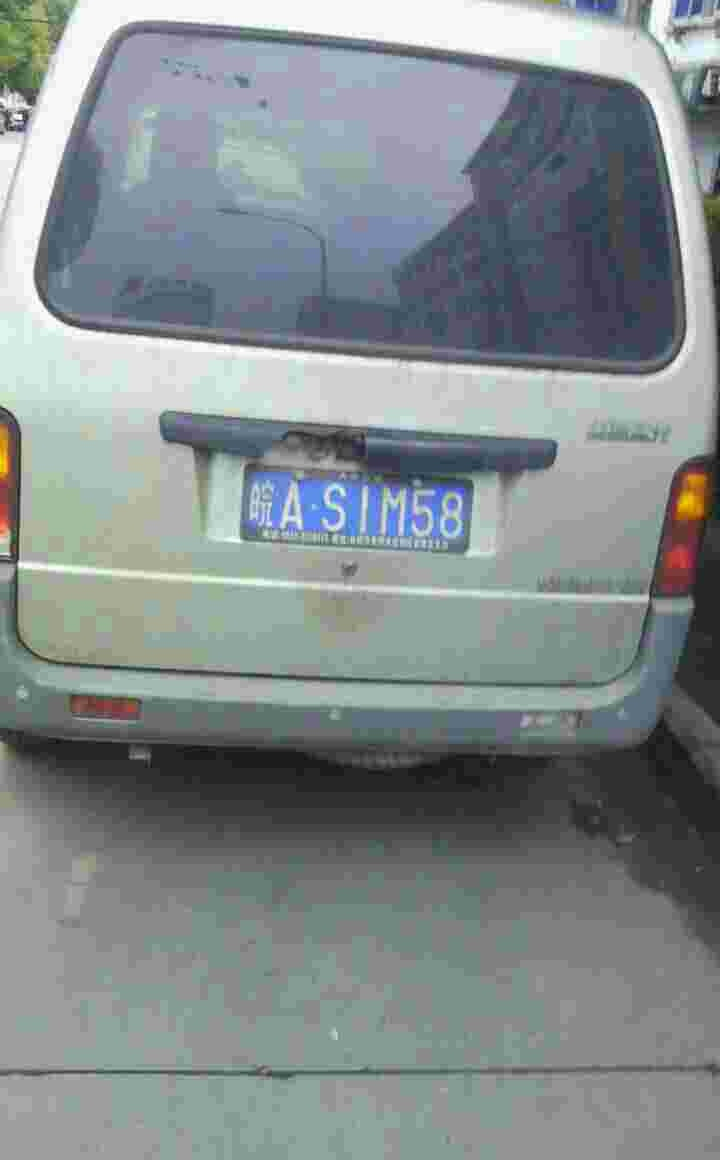license_plate: (250, 472, 470, 548)
